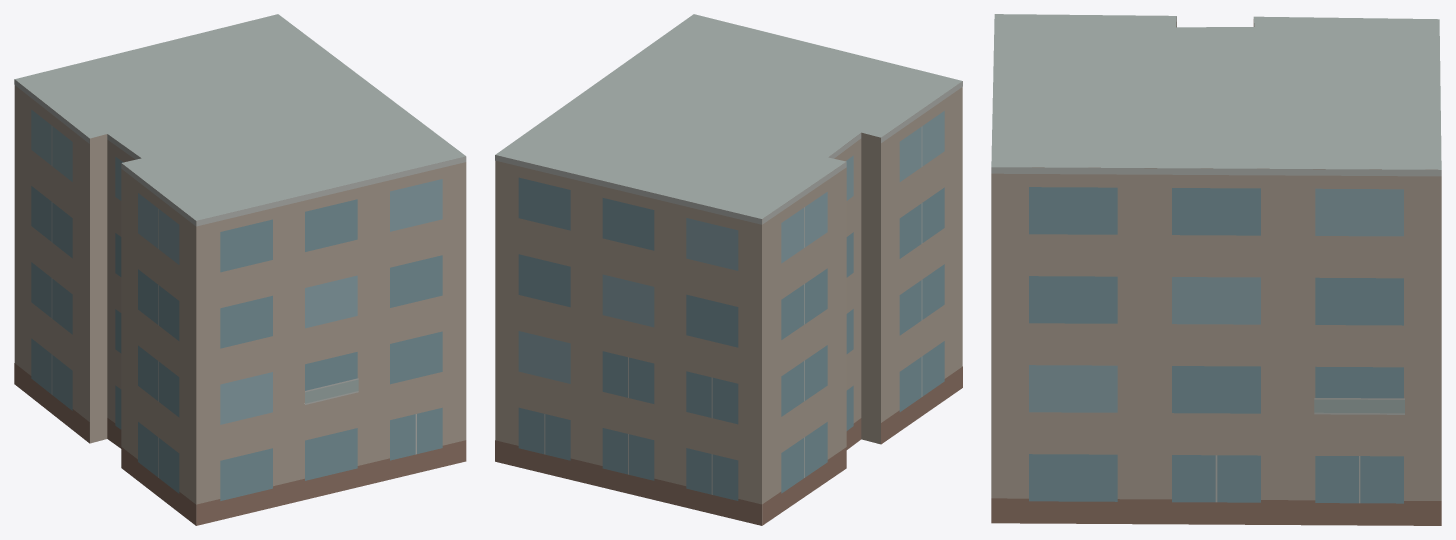
File: survey-upis-32775367.glb
3 views of the same model, side by side, from view 1: azimuth 30°, elevation 25°; view 2: azimuth 150°, elevation 25°; view 3: azimuth 270°, elevation 25° (orthographic). The views are drawn at different scales.
Visible parts, largest first — view 1: survey-upis-32775367.tmp; view 2: survey-upis-32775367.tmp; view 3: survey-upis-32775367.tmp.
Part boxes in pixels (bbox=[...]): survey-upis-32775367.tmp: bbox=[14, 14, 466, 525]; survey-upis-32775367.tmp: bbox=[495, 14, 962, 525]; survey-upis-32775367.tmp: bbox=[991, 14, 1441, 525].
Size of the model in its own units: 12.37 by 13.15 by 15.08.
